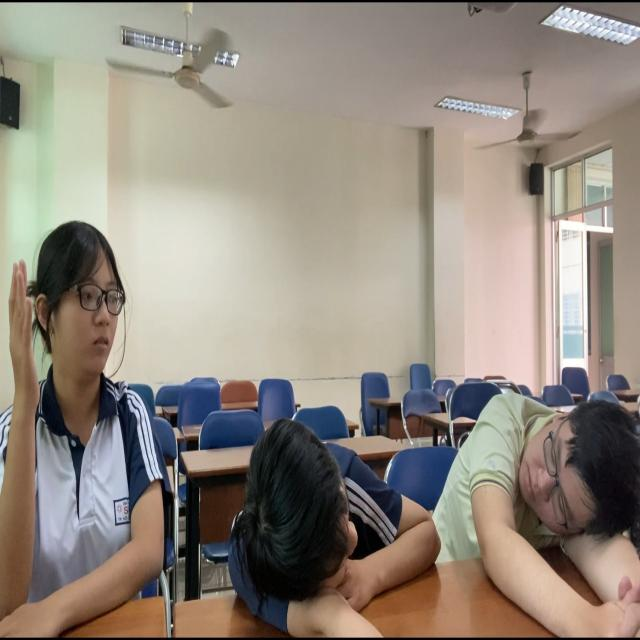raise_hand: (1, 196, 187, 640)
sleep: (234, 386, 460, 640), (457, 351, 640, 640)
